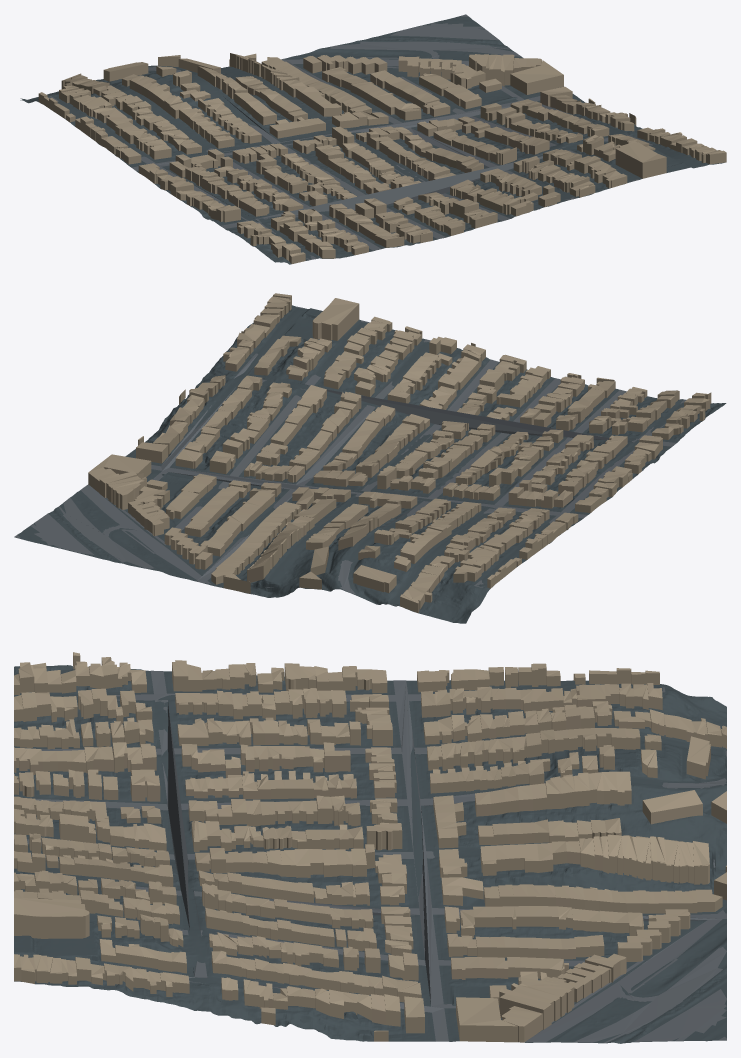
The model's file is epsg26910-1436-10876.lod0.glb.
The picture shows the model from 3 angles, top to bottom: view 1: azimuth 30°, elevation 25°; view 2: azimuth 150°, elevation 25°; view 3: azimuth 270°, elevation 25°; orthographic projection. The views are drawn at different scales.
Visible parts, largest first — view 1: epsg26910-1436-10876-lod0; view 2: epsg26910-1436-10876-lod0; view 3: epsg26910-1436-10876-lod0.
Part boxes in pixels (x1,y1,x2,y2): epsg26910-1436-10876-lod0: (20,14,726,264); epsg26910-1436-10876-lod0: (14,293,726,623); epsg26910-1436-10876-lod0: (14,652,726,1043).
Bounding box in the file's own units: 384 × 53.79 × 384.
